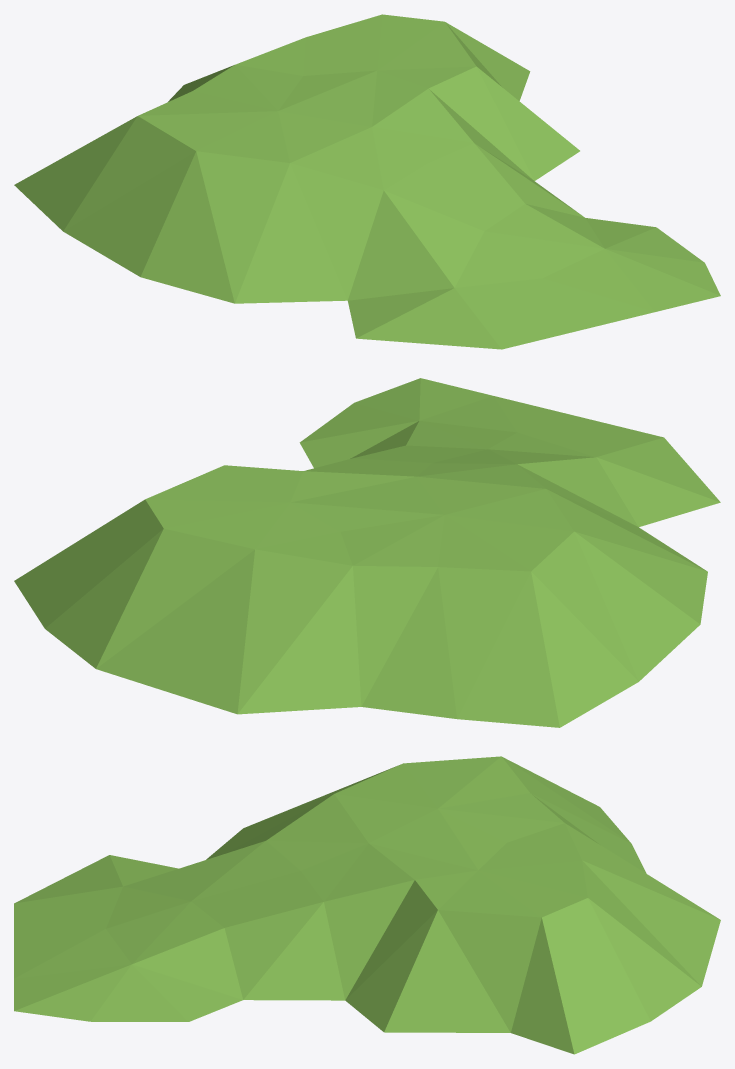
File: MT_Mountain_S_c_16.fbx
The picture shows the model from 3 angles, top to bottom: view 1: azimuth 30°, elevation 25°; view 2: azimuth 150°, elevation 25°; view 3: azimuth 270°, elevation 25°; orthographic projection. The views are drawn at different scales.
Visible parts, largest first — view 1: MT_Mountain_S_c_16; view 2: MT_Mountain_S_c_16; view 3: MT_Mountain_S_c_16.
Part boxes in pixels (box(x1,y1,x2,y2)): MT_Mountain_S_c_16: box(14, 14, 720, 349); MT_Mountain_S_c_16: box(14, 378, 720, 727); MT_Mountain_S_c_16: box(14, 756, 720, 1054).
Bounding box in the file's own units: 2028 × 331 × 2395.
